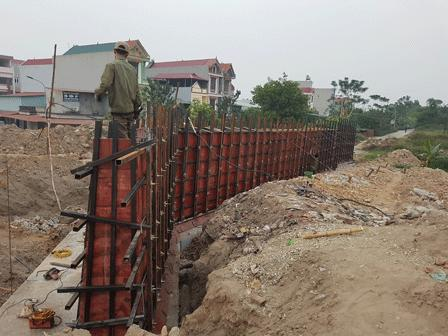Helmet: (112, 40, 131, 53)
Person: (94, 40, 143, 146)
no-vest: (107, 63, 138, 112)
